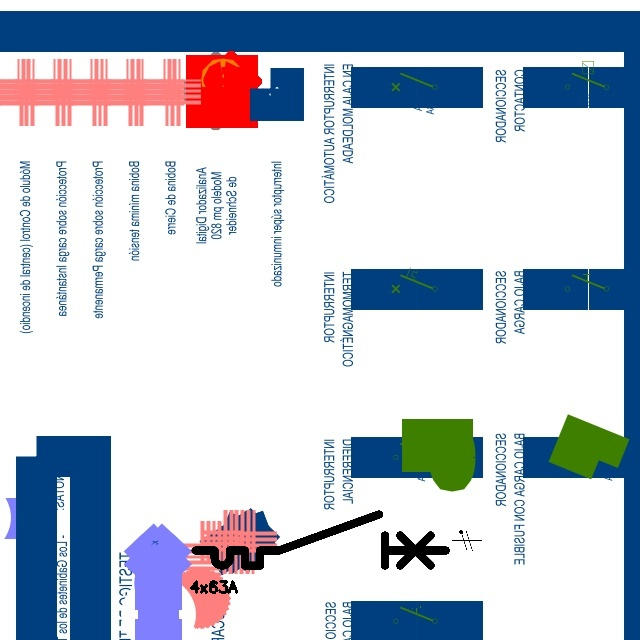interruptor_termomagnetico: (189, 508, 452, 572)
